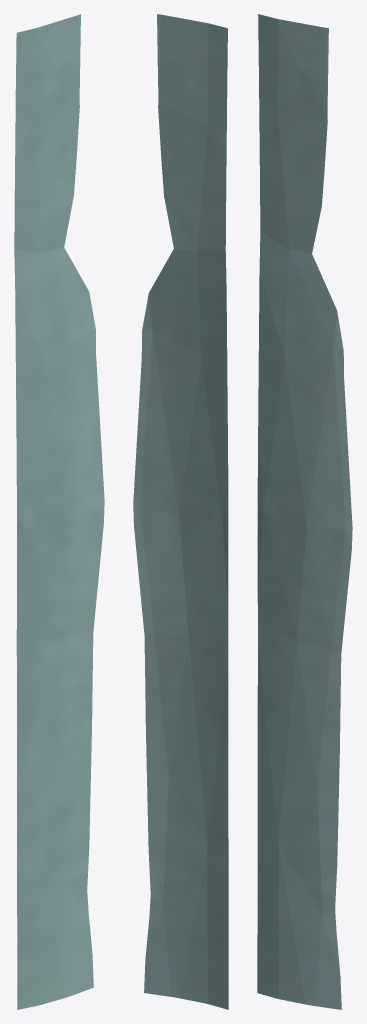
3 renders of one model, left to right at view 1: azimuth 30°, elevation 25°; view 2: azimuth 150°, elevation 25°; view 3: azimuth 330°, elevation 25°, orthographic.
Size of the model in its own units: 8.37 by 85.74 by 0.7376.
Materials: 1 (1 with a texture image).
